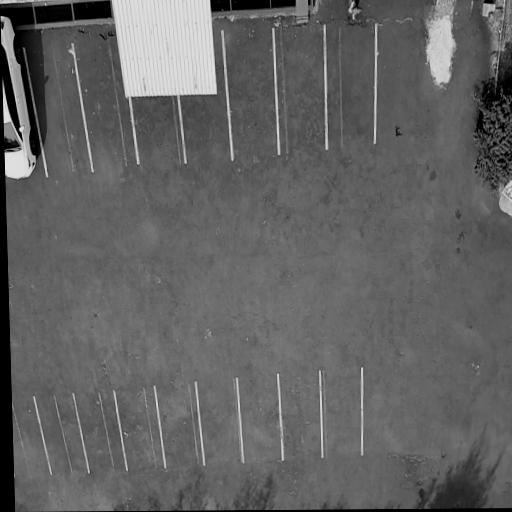Car: (1, 0, 47, 183)
Space Available: (25, 46, 92, 179), (73, 38, 134, 173), (223, 30, 278, 161), (274, 28, 327, 156), (325, 24, 376, 150), (114, 386, 167, 475), (74, 390, 127, 474), (194, 378, 244, 465), (35, 397, 89, 475), (155, 382, 204, 467), (277, 371, 322, 461), (237, 374, 283, 462), (129, 96, 186, 166), (178, 95, 232, 165), (320, 371, 363, 456), (12, 397, 52, 478)
